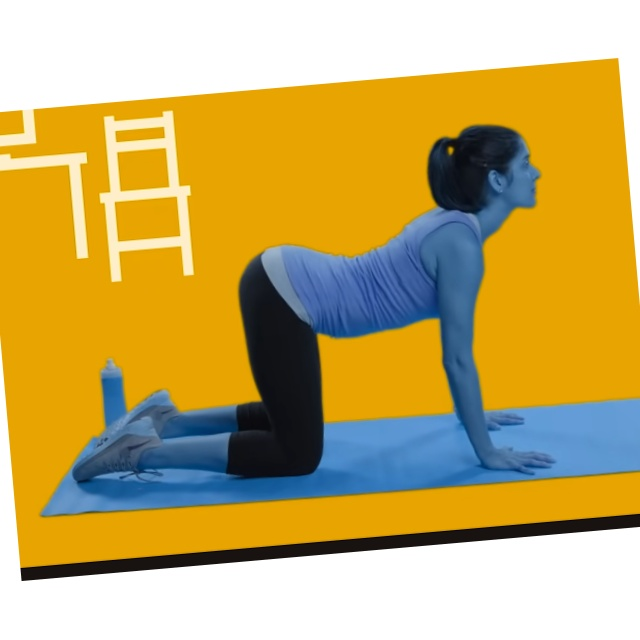Cow_Pose: (74, 124, 557, 490)
